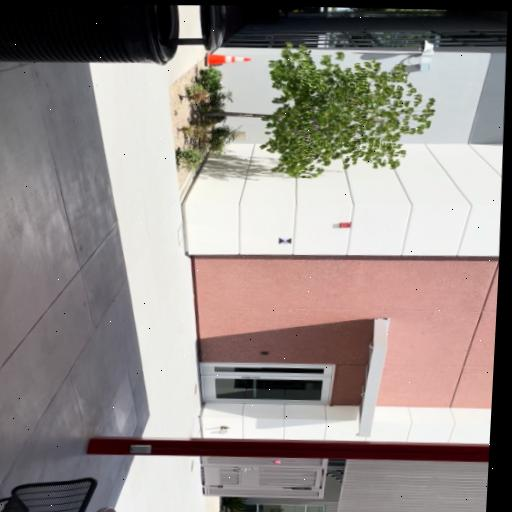target6: (278, 238, 291, 244)
